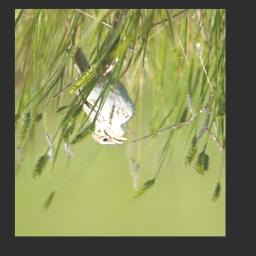Sparrow: (67, 48, 137, 147)
